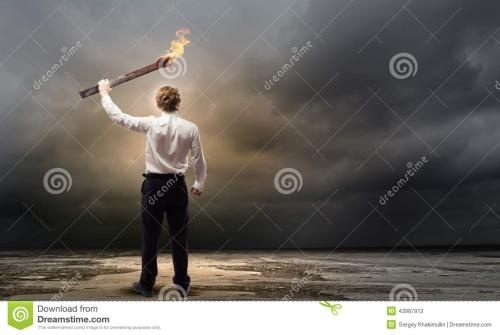fire: (165, 25, 191, 57)
